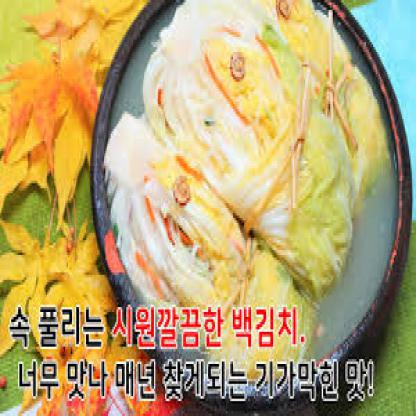baek Kimchi: (117, 7, 384, 307)
